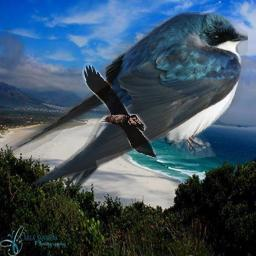Crow: (82, 63, 158, 160)
Swallow: (1, 10, 248, 189)
